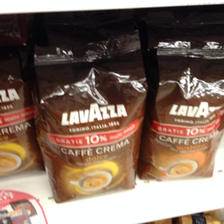coffee: (32, 32, 149, 203), (140, 20, 224, 182)
